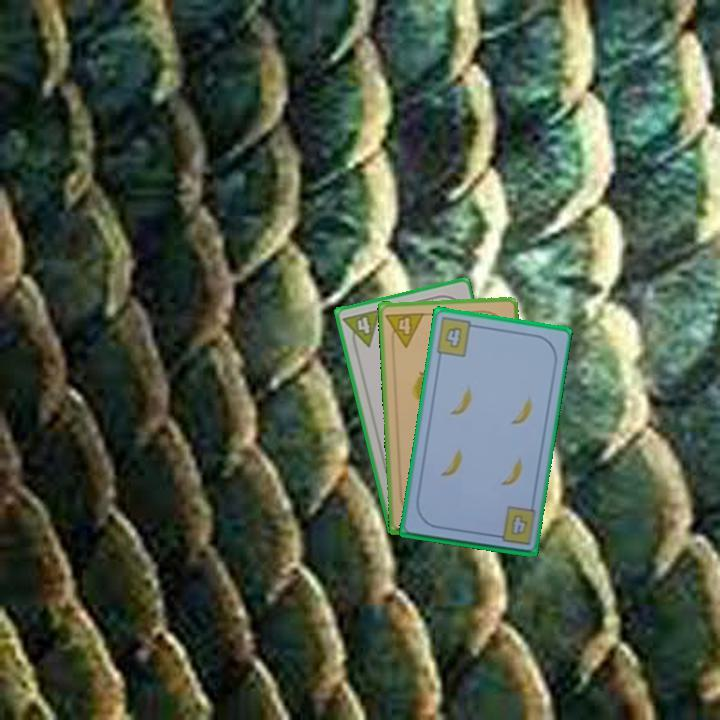4b: (432, 314, 480, 360), (507, 510, 530, 538)
4p: (339, 306, 383, 353), (383, 308, 427, 350)
